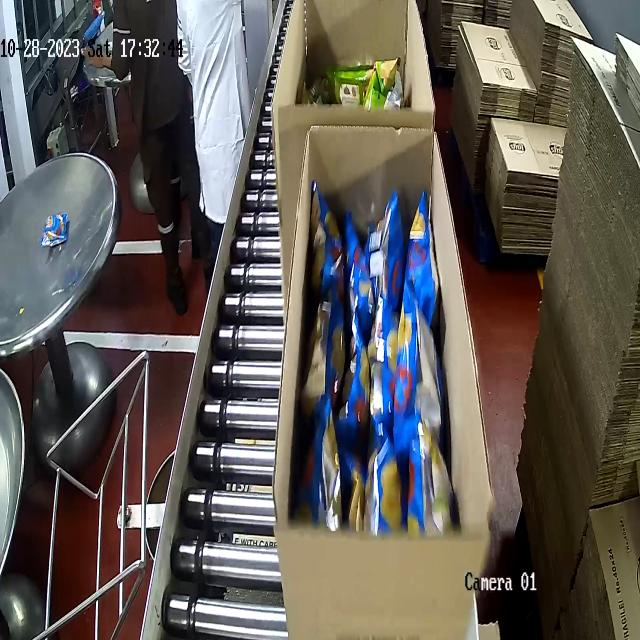PAPRIKA: (306, 180, 459, 534)
